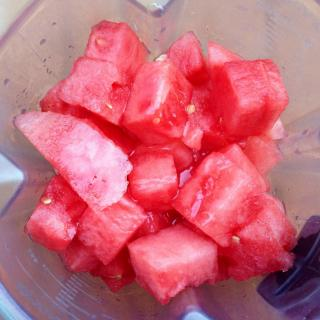Watermelon: (13, 19, 298, 304)
